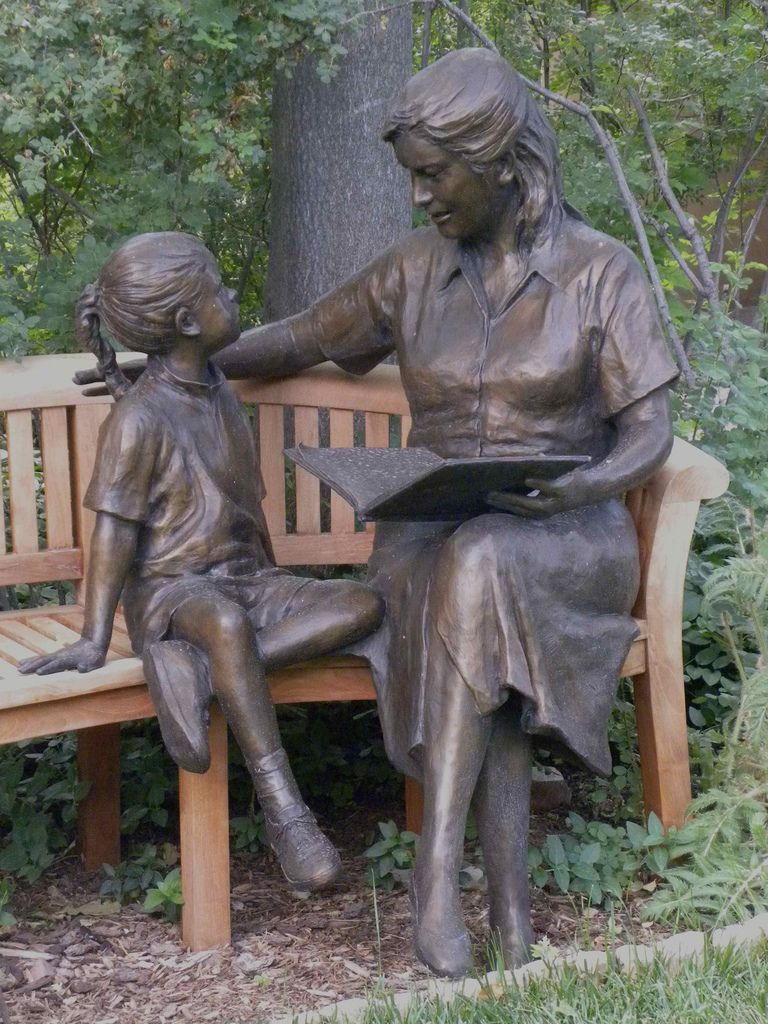person-like: (207, 38, 684, 985), (13, 223, 397, 898)
